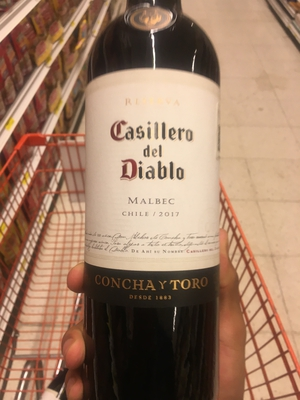casillero del diablo malbec: (82, 11, 230, 393)
